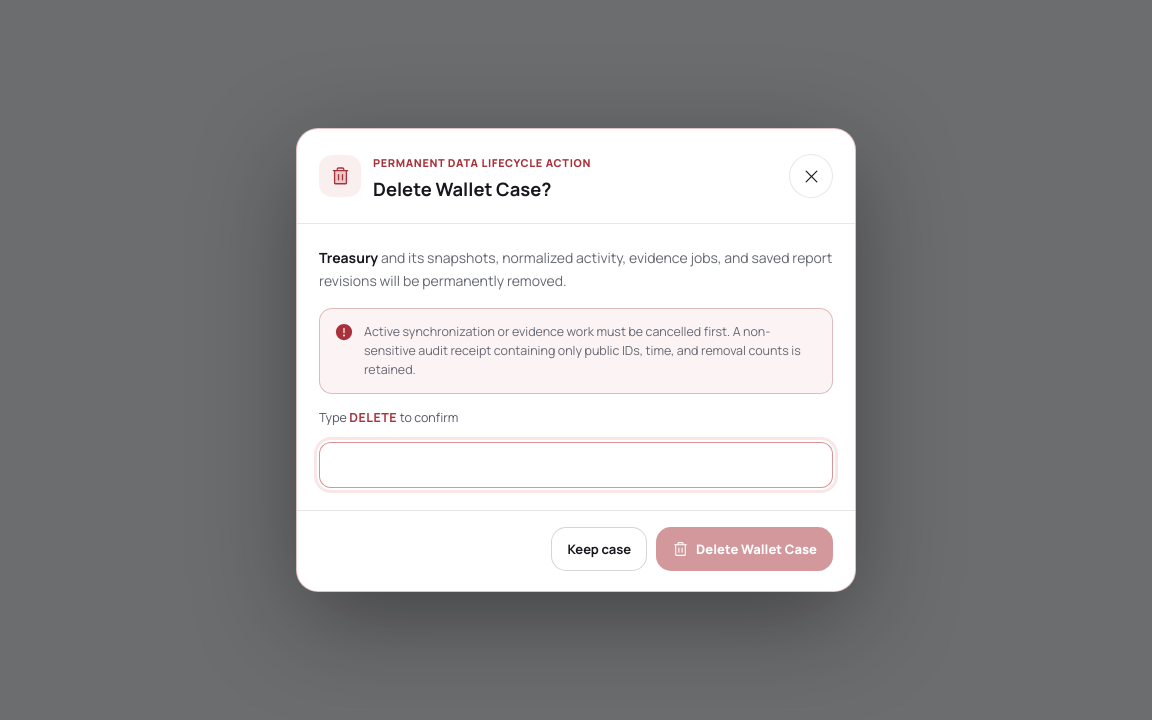
CaseDeleteDialog › keeps the dialog open with a safe active-job conflict message
Type "DELETE" into the field labelled "Type DELETE to confirm" at (576, 465), box 319,442 -> 833,488
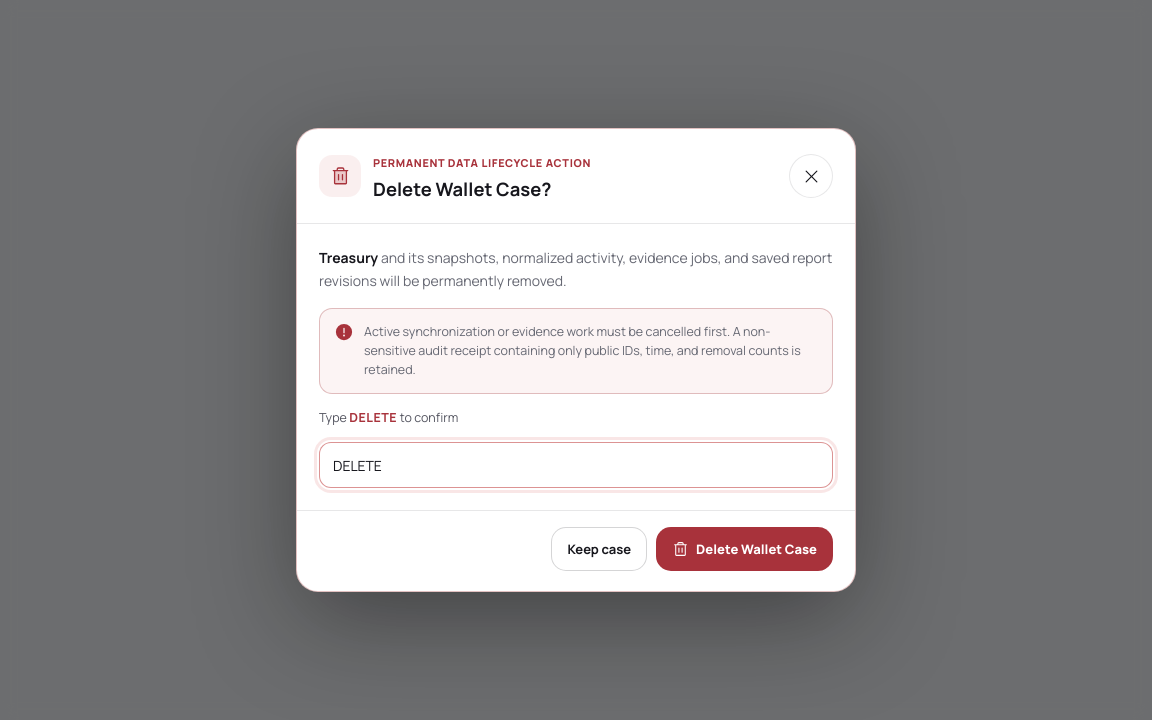
Click the button "Delete Wallet Case" at (745, 549), box 656,527 -> 833,571
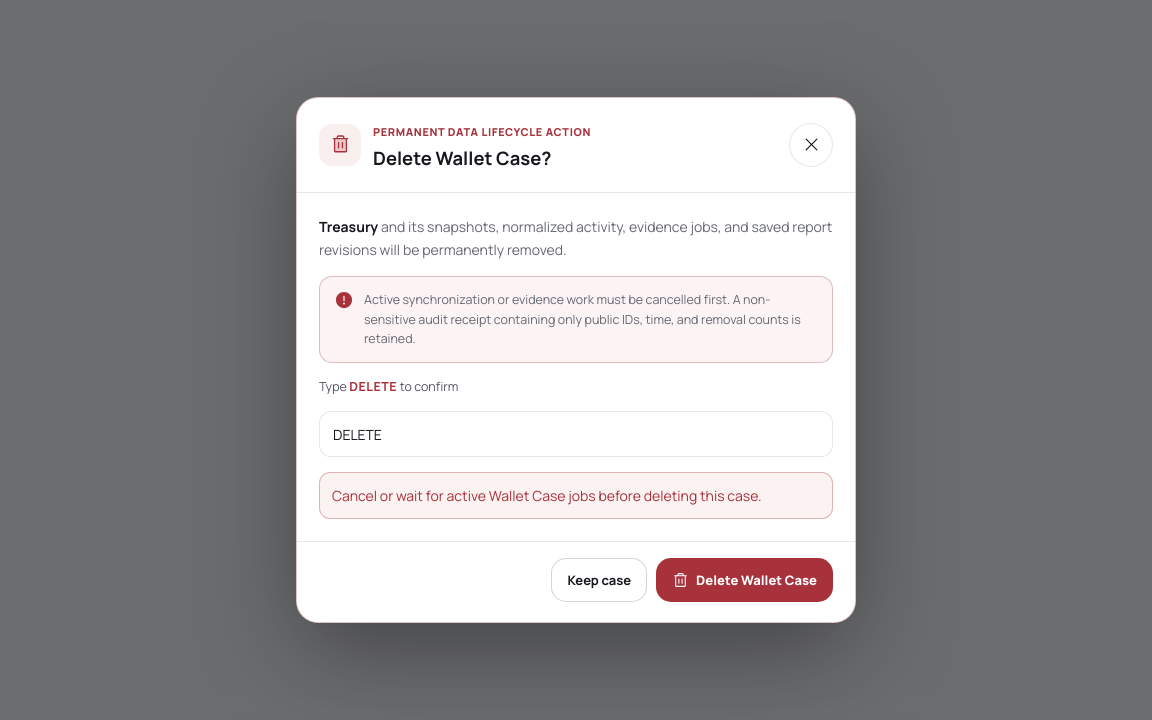
Expected: the dialog is shown, 296,97 -> 856,623
Expected: the button "Delete Wallet Case" is enabled, 656,558 -> 833,602
Expected: the message shows "Cancel or wait for active Wallet Case jobs", 332,486 -> 762,505
